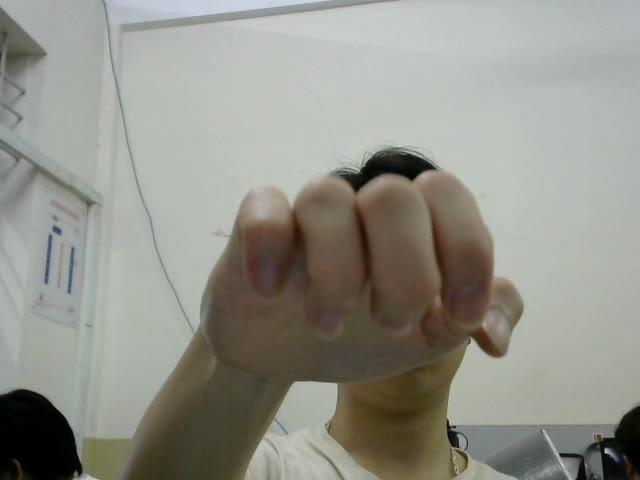E: (196, 165, 526, 383)
